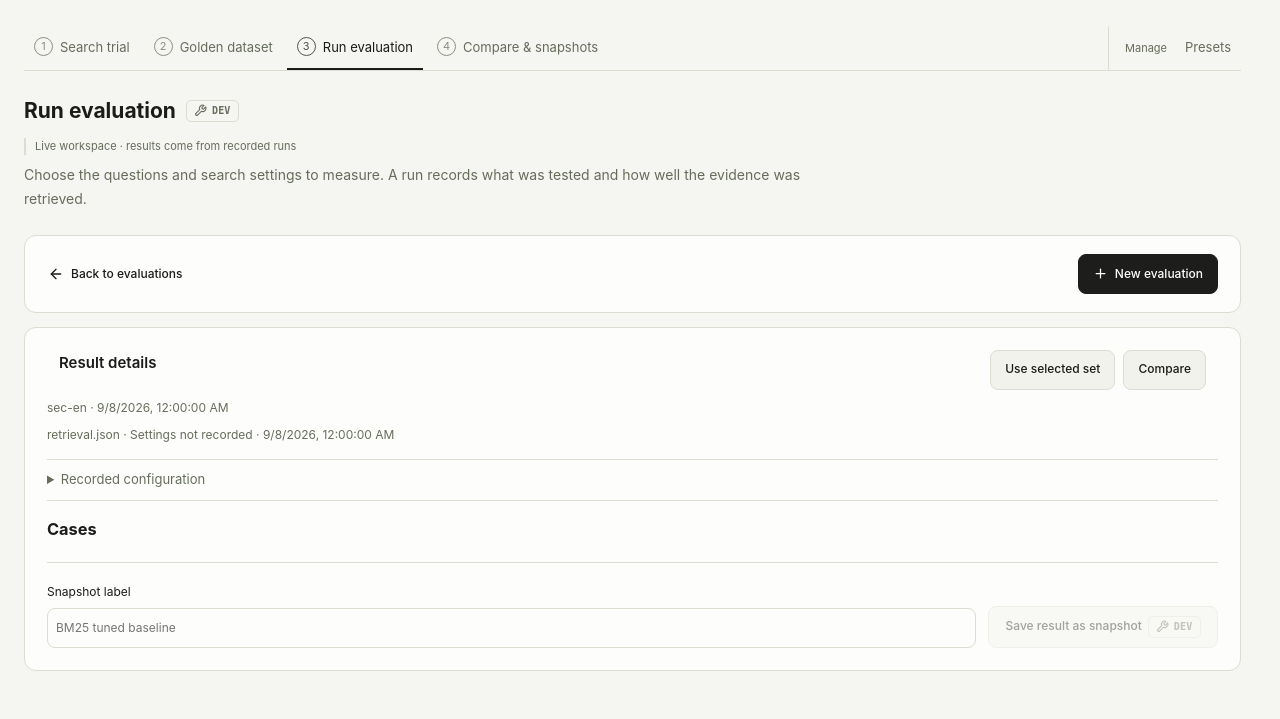
Test: shows snapshot progress and a truthful terminal button state (success=true)
(page scrolled)
Type "testing" into the field labelled "Snapshot label" at (512, 628), box [47,608,976,648]
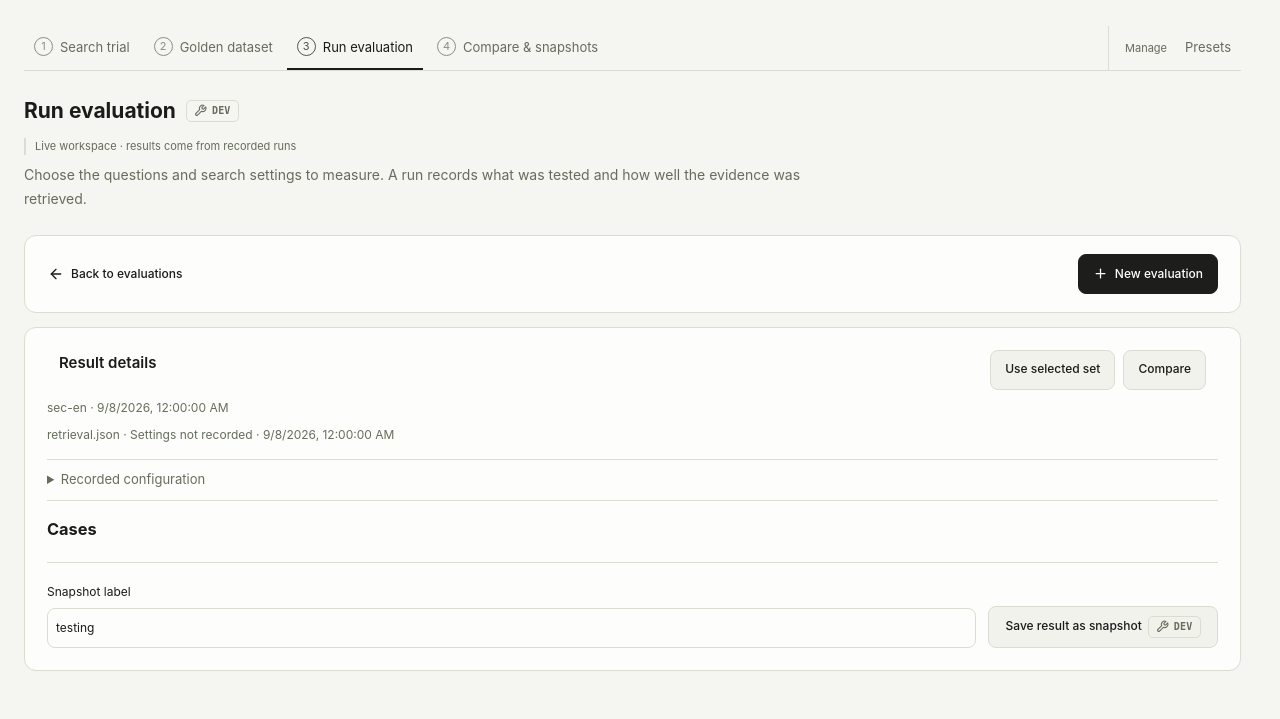
Check: the button "Save result as snapshot DEV" is enabled
Click the button "Save result as snapshot DEV" at (1103, 627), box [988,606,1218,648]
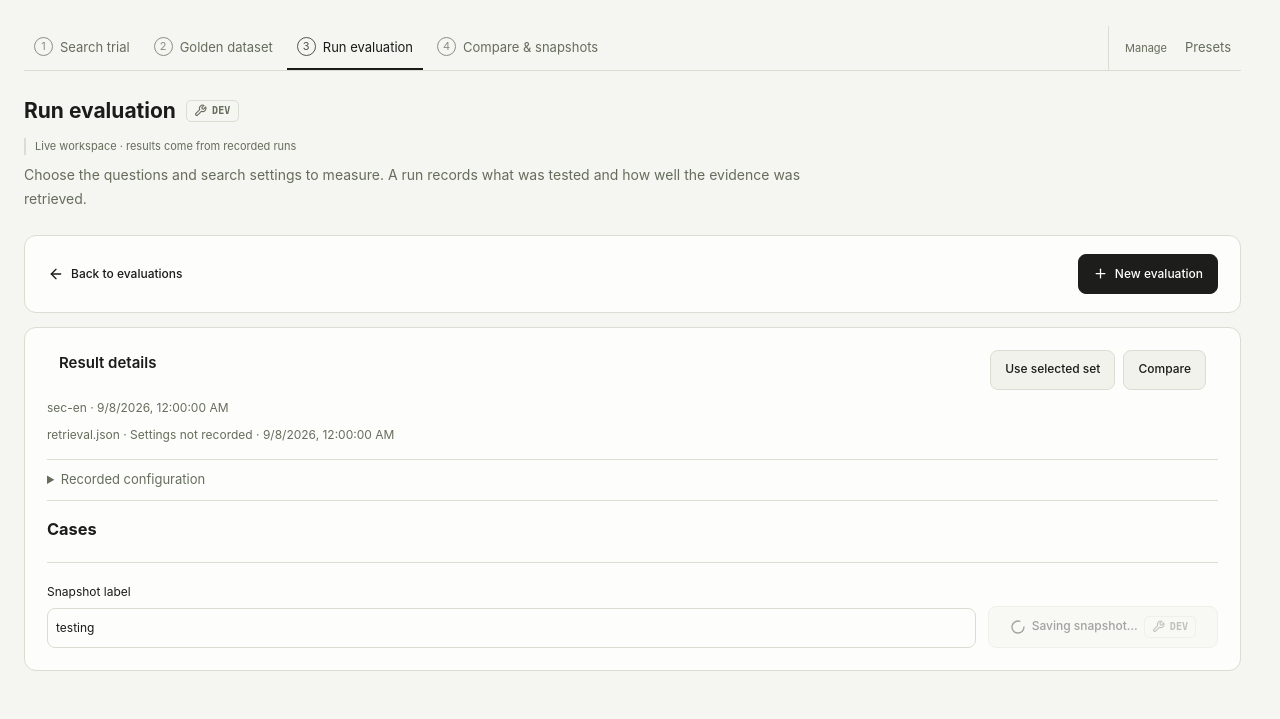
Check: the button "Saving snapshot… DEV" is disabled
Click the button "Saving snapshot… DEV" at (1103, 627), box [988,606,1218,648]
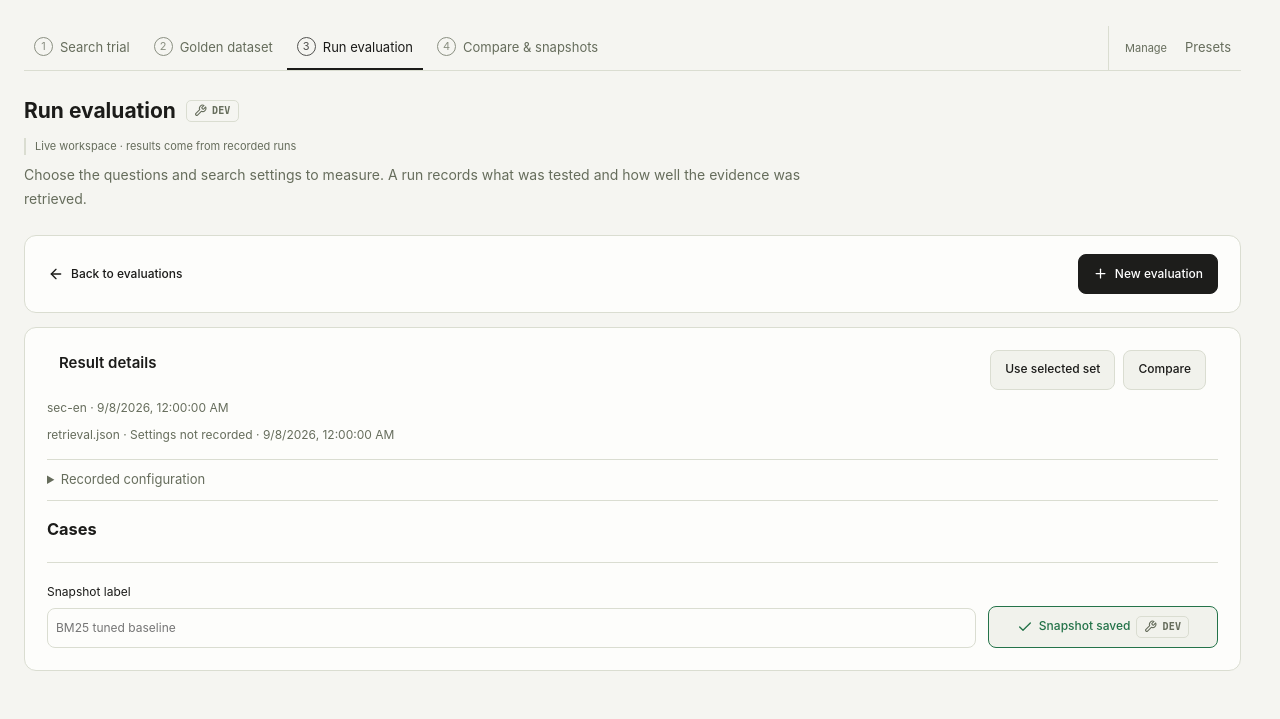
Check: the button "Snapshot saved DEV" is disabled, box [988,606,1218,648]
Check: the field labelled "Snapshot label" is empty, box [47,608,976,648]
